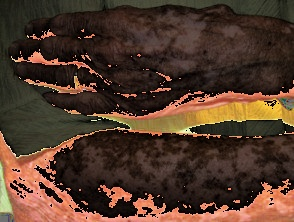vitiligo: (3, 1, 294, 123), (0, 123, 294, 222)
